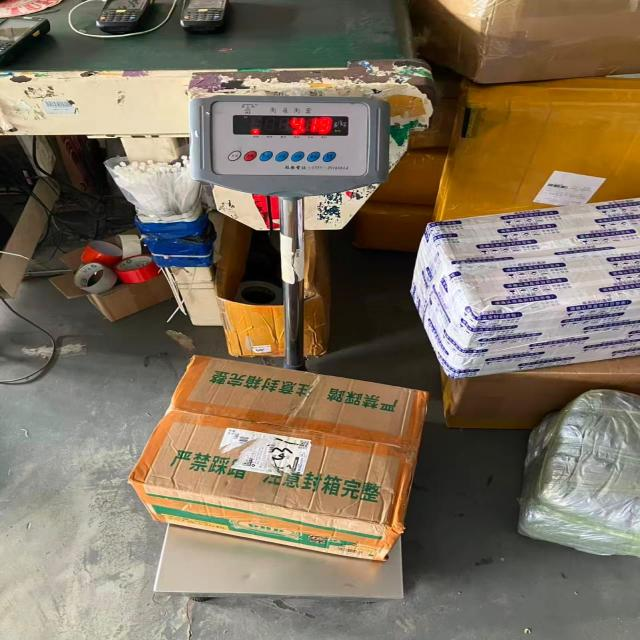carton_box: (128, 351, 440, 573)
